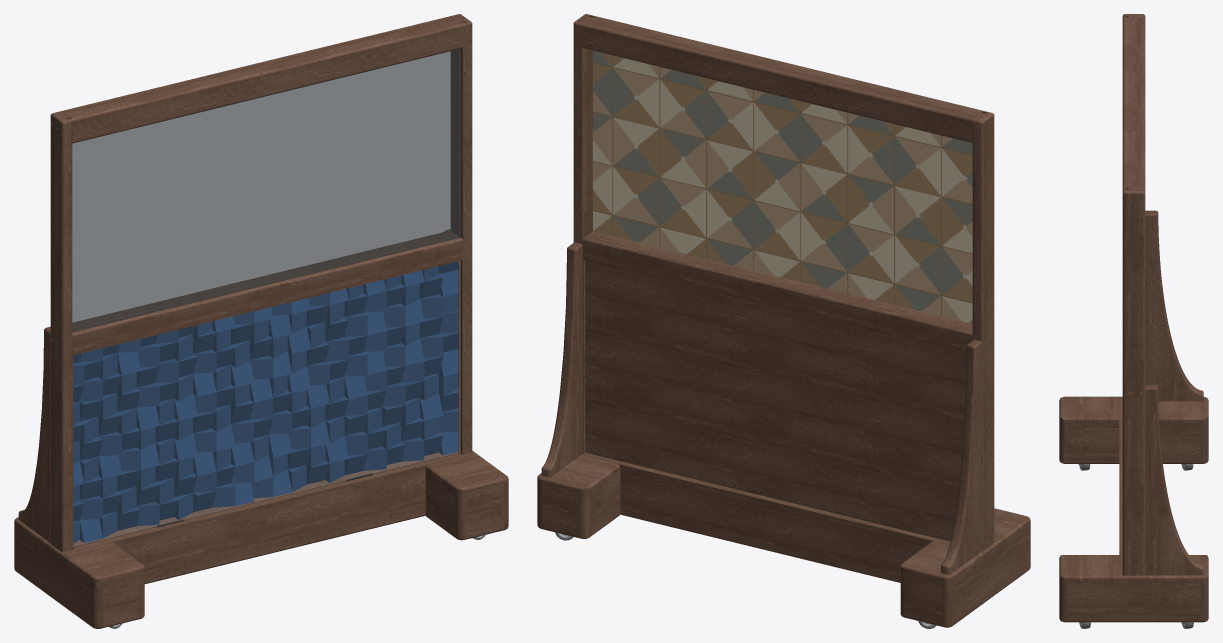
File: v10-linen-marquetry-mocha-one.glb
The picture shows the model from 3 angles, left to right: view 1: azimuth 30°, elevation 25°; view 2: azimuth 150°, elevation 25°; view 3: azimuth 270°, elevation 25°; orthographic projection. The views are drawn at different scales.
Visible parts, largest first — view 1: Wood, Cover glass, Linen Marquetry reverse, Navy Everwood relief; view 2: Wood, Linen Marquetry print; view 3: Wood, Nonmarking rubber.
Part boxes in pixels (bbox=[...]): Wood: bbox=[14, 14, 508, 628]; Cover glass: bbox=[74, 261, 459, 545]; Linen Marquetry reverse: bbox=[72, 49, 460, 331]; Navy Everwood relief: bbox=[73, 261, 458, 543]; Wood: bbox=[537, 14, 1030, 627]; Linen Marquetry print: bbox=[593, 50, 972, 323]; Wood: bbox=[1059, 14, 1208, 622]; Nonmarking rubber: bbox=[1079, 464, 1193, 628].
Size of the model in its own units: 1.68 by 1.91 by 0.5842.
Materials: 10 (2 with a texture image).
